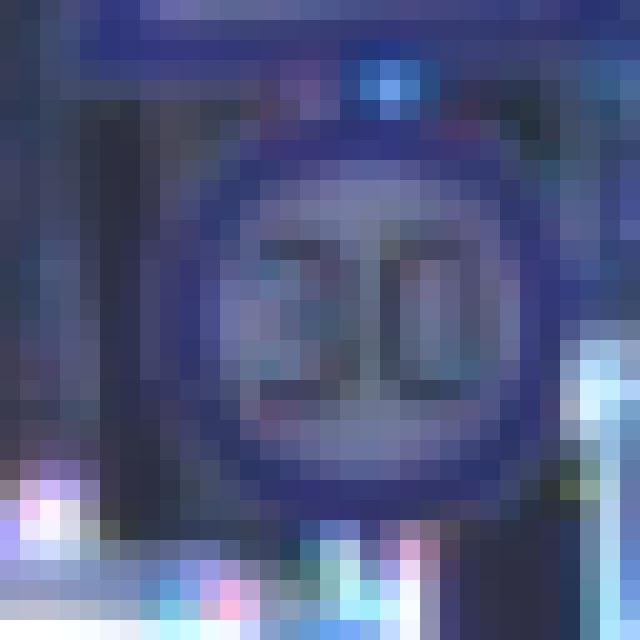SPEED LIMIT 30: (202, 157, 544, 503)
